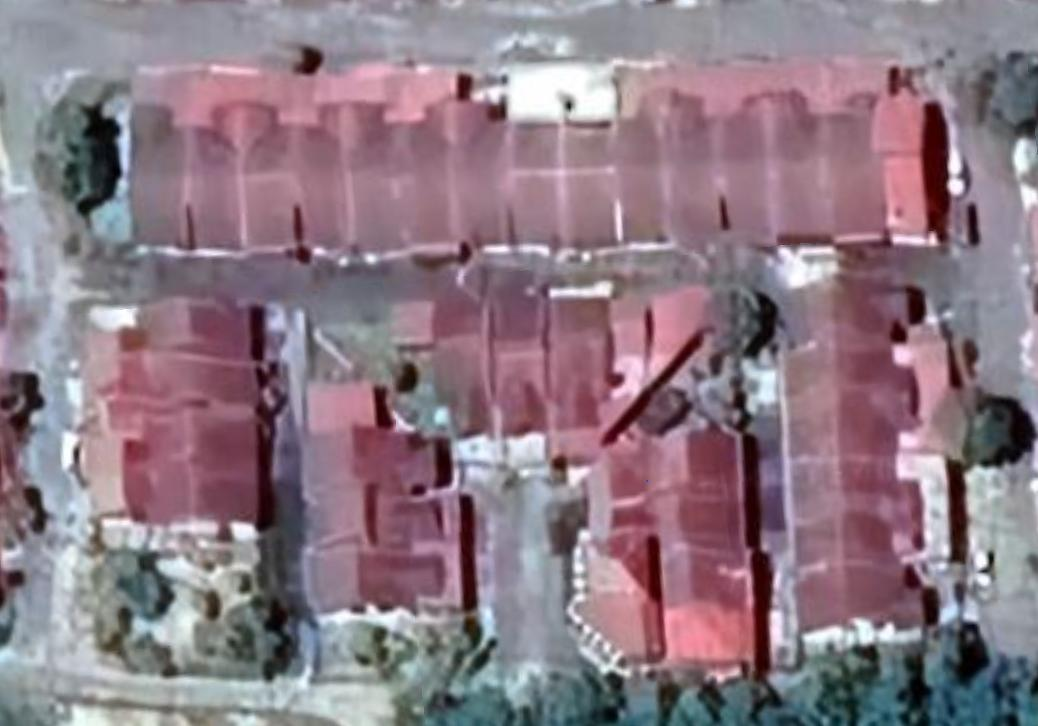building: (559, 585, 765, 675), (385, 285, 500, 440), (297, 530, 488, 621), (560, 414, 750, 498), (64, 391, 276, 465), (770, 274, 933, 362), (69, 460, 269, 530), (80, 285, 274, 353), (575, 526, 761, 596), (774, 391, 927, 473), (74, 346, 278, 407), (123, 95, 198, 260), (291, 479, 485, 542), (773, 82, 841, 255), (770, 337, 925, 410), (622, 80, 684, 261), (296, 418, 468, 483), (673, 82, 736, 259), (580, 470, 753, 534), (250, 91, 313, 264), (462, 89, 521, 264), (777, 467, 927, 535), (785, 518, 934, 586), (195, 94, 255, 261), (792, 574, 937, 643), (881, 90, 943, 250), (305, 92, 360, 271), (569, 106, 631, 264), (552, 283, 616, 435), (728, 85, 784, 257), (495, 285, 556, 439), (835, 91, 893, 252), (359, 92, 411, 269), (413, 89, 464, 269), (520, 111, 576, 268)
